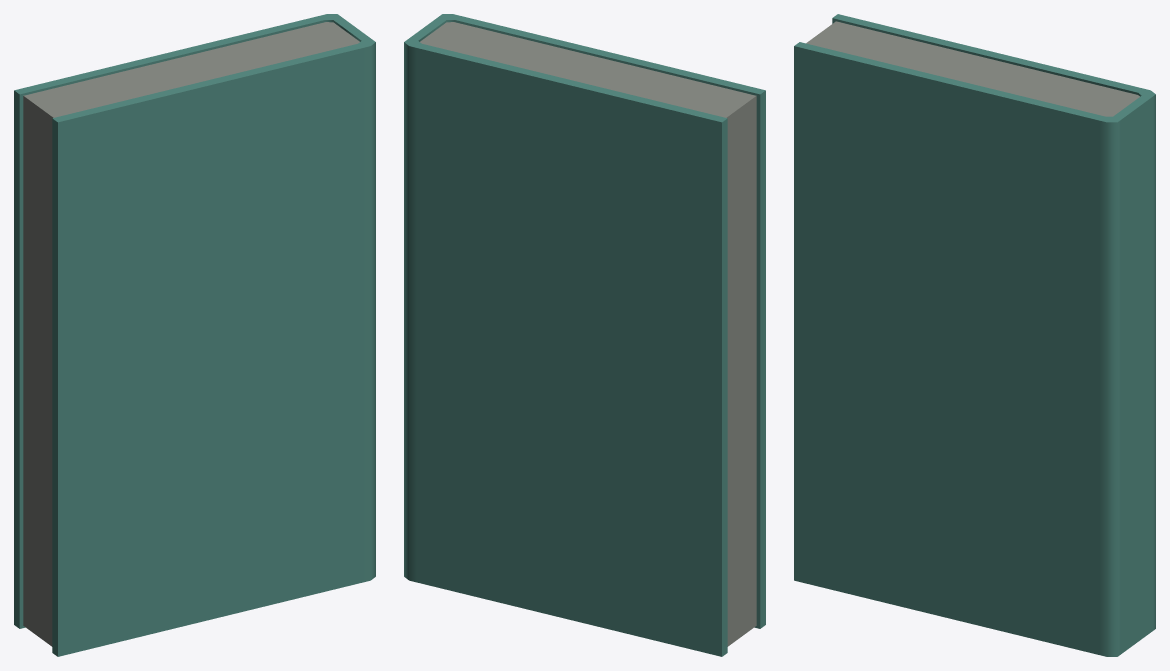
The model's file is Book.006.fbx.
3 views of the same model, side by side, from view 1: azimuth 30°, elevation 25°; view 2: azimuth 150°, elevation 25°; view 3: azimuth 330°, elevation 25° (orthographic).
Parts seen in each view (by area): view 1: Book.006; view 2: Book.006; view 3: Book.006.
Part boxes in pixels (x1=…): Book.006: x1=14, y1=14, x2=375, y2=656; Book.006: x1=404, y1=14, x2=765, y2=656; Book.006: x1=794, y1=14, x2=1155, y2=656.
Size of the model in its own units: 27.54 by 43.85 by 6.52.
